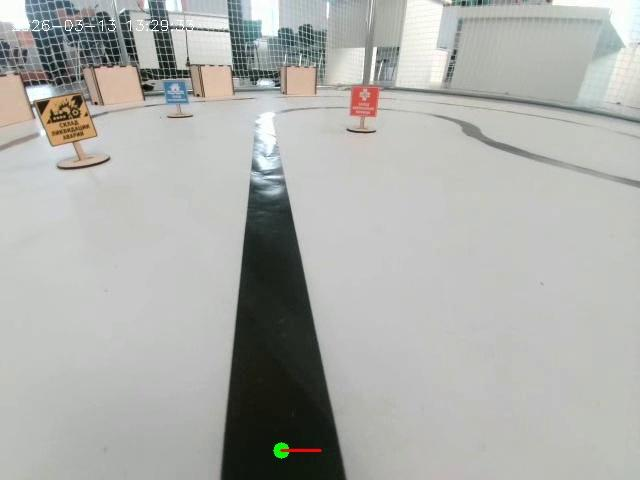flood: (150, 76, 202, 125)
industrial: (23, 89, 126, 172)
medical: (345, 76, 391, 130)
